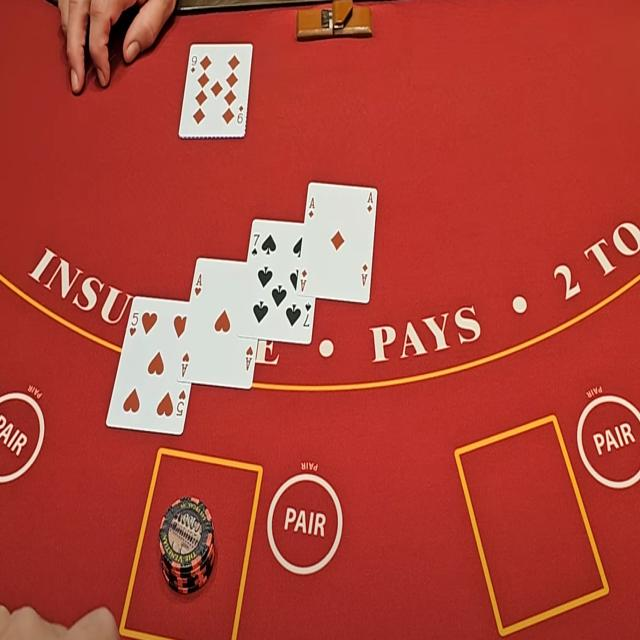5: (131, 311, 139, 327)
7: (253, 232, 260, 247)
9: (190, 54, 198, 67)
A: (308, 195, 316, 210), (196, 271, 203, 287)
